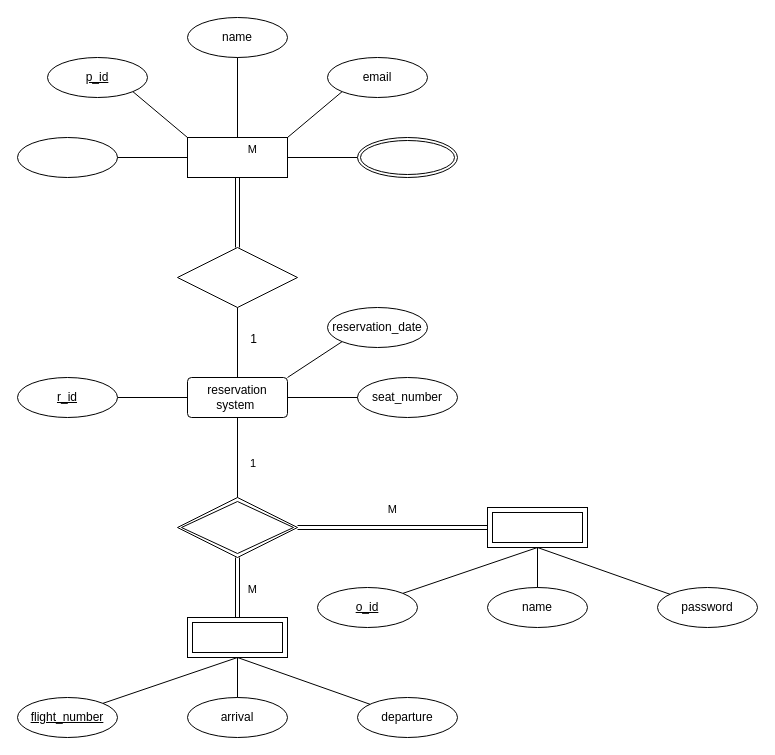
Image size: 775x755. Some labels were removed from this diagram. The shapes that lost their labels are listed below. From the top down, each one's box as (x1, y1, x2, y2) in pixels, then its label:
(16, 136, 118, 178): address
(186, 136, 288, 178): passenger
(356, 136, 458, 178): phone
(176, 246, 298, 308): registers
(176, 496, 298, 558): provides
(486, 506, 588, 548): operator
(186, 616, 288, 658): flight
